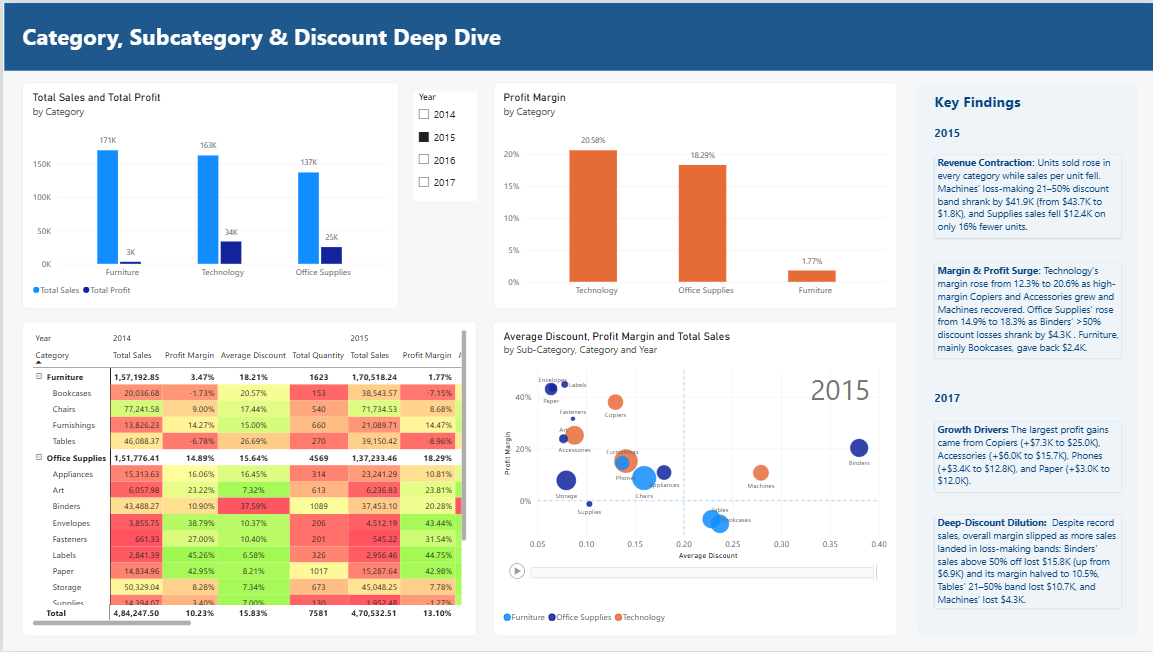

Layout of this report page (visuals, bound fields, positions):
{"tool":"powerbi","page":{"name":"Root Cause Deep Dive","canvas":[1920,1080],"ordinal":2},"visuals":[{"type":"lineClusteredColumnComboChart","fields":{"Category":["superstore_sales.Category"],"Y":["Sum(superstore_sales.Sales)","Sum(superstore_sales.Profit)"]},"box":[32.5,132.5,627.5,377.5],"z":0},{"type":"lineClusteredColumnComboChart","fields":{"Category":["superstore_sales.Category"],"Y":["superstore_sales.Profit Margin"]},"box":[817.5,132.5,672.5,377.5],"z":1000},{"type":"slicer","fields":{"Values":["superstore_sales.Order Date.Variation.Date Hierarchy.Year"]},"box":[685,147.5,105,182.5],"z":2000},{"type":"shape","box":[2.5,0,1917.5,112.5],"z":3000},{"type":"pivotTable","fields":{"Columns":["superstore_sales.Order Date.Variation.Date Hierarchy.Year"],"Rows":["superstore_sales.Category","superstore_sales.Sub-Category"],"Values":["Sum(superstore_sales.Sales)","superstore_sales.Profit Margin","Avg(superstore_sales.Discount)","Sum(superstore_sales.Quantity)"]},"box":[33.3,530,757.5,525],"z":4000},{"type":"scatterChart","fields":{"Category":["superstore_sales.Sub-Category"],"Play":["superstore_sales.Order Date.Variation.Date Hierarchy.Year"],"Series":["superstore_sales.Category"],"Size":["superstore_sales.Total Sales"],"X":["Avg(superstore_sales.Discount)"],"Y":["superstore_sales.Profit Margin"]},"box":[817.5,530,672.5,525],"z":5000},{"type":"shape","box":[1523.3,132.2,370,922.5],"z":6000},{"type":"textbox","box":[1553.3,148.3,152.5,32.5],"z":7000},{"type":"textbox","box":[1553.3,201.7,70,37],"z":8000},{"type":"textbox","box":[1553.3,251.7,311.1,140],"z":9000},{"type":"textbox","box":[1553.3,431.7,311.2,158.8],"z":10000},{"type":"textbox","box":[1553.3,645,52.9,32.9],"z":11000},{"type":"textbox","box":[1553.3,696.7,311.2,117.5],"z":12000},{"type":"textbox","box":[1553.3,851.7,311.2,155],"z":13000},{"type":"textbox","box":[32.5,30,810,52.5],"z":14000}]}

Visuals, with their boxes in screenshot pixels (x1, y1, x2, y2), scaled from the page's 1920x1080 canvas onto the 1153x652 screenshot:
lineClusteredColumnComboChart - superstore_sales.Category x Sum(superstore_sales.Sales): 20, 80, 396, 308
lineClusteredColumnComboChart - superstore_sales.Category x superstore_sales.Profit Margin: 491, 80, 895, 308
slicer - superstore_sales.Order Date.Variation.Date Hierarchy.Year: 411, 89, 474, 199
shape: 2, 0, 1152, 68
pivotTable - superstore_sales.Order Date.Variation.Date Hierarchy.Year x superstore_sales.Category: 20, 320, 475, 637
scatterChart - superstore_sales.Sub-Category x superstore_sales.Order Date.Variation.Date Hierarchy.Year: 491, 320, 895, 637
shape: 915, 80, 1137, 637
textbox: 933, 90, 1024, 109
textbox: 933, 122, 975, 144
textbox: 933, 152, 1120, 236
textbox: 933, 261, 1120, 356
textbox: 933, 389, 965, 409
textbox: 933, 421, 1120, 492
textbox: 933, 514, 1120, 608
textbox: 20, 18, 506, 50
